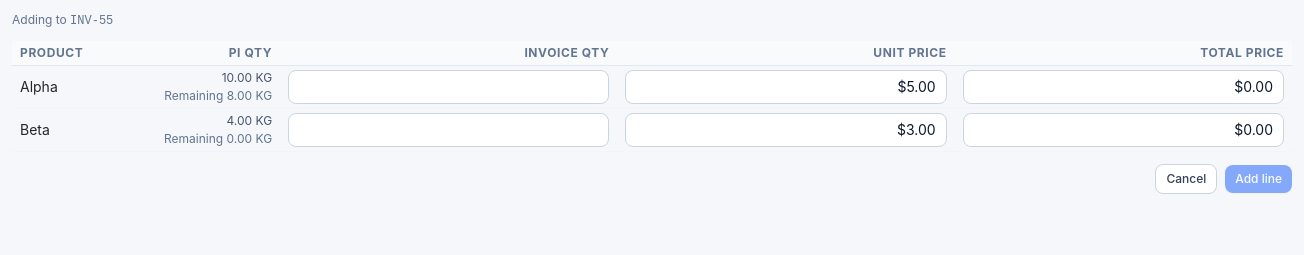
Test: InvoiceEditor — add-line mode › marks the target superseded when the invoice itself is gone
Check: the text "Alpha" is shown, box 12,66 -> 117,108
Type "1" into the number field named "Invoice qty for Alpha" at (449, 87), box 288,70 -> 610,104
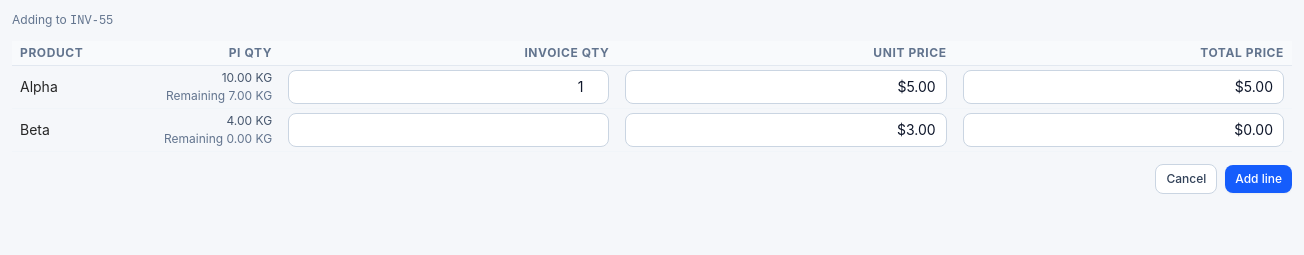
Click the button "Add line" at (1259, 179), box 1225,165 -> 1292,193
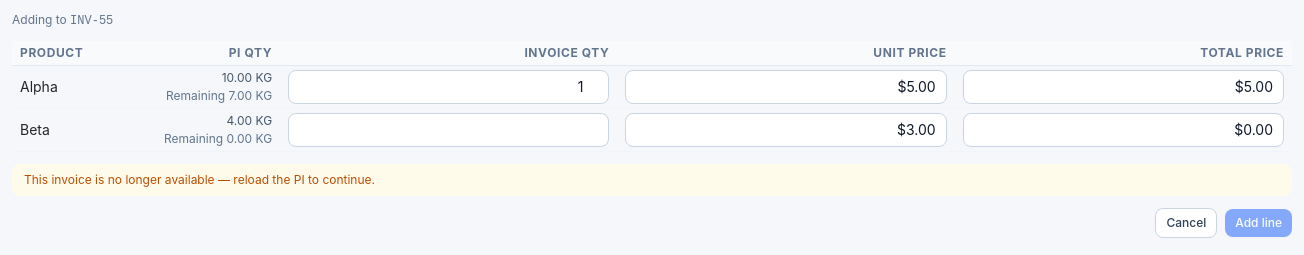
Check: the text "no longer available" is shown, box 24,172 -> 375,187
Check: the button "Add line" is disabled, box 1225,209 -> 1292,237
